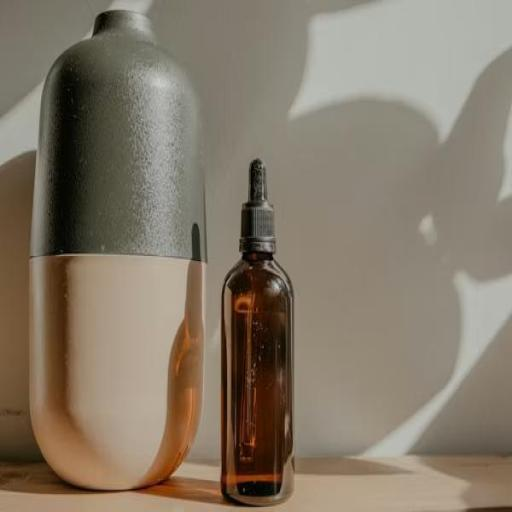bottle: (214, 147, 299, 512)
